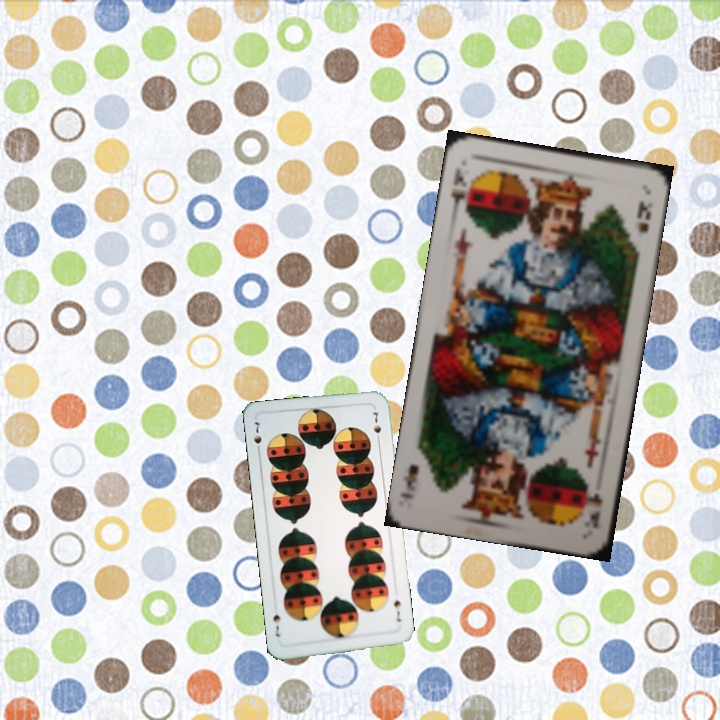S7: (250, 418, 264, 457), (390, 595, 405, 624)
SK: (447, 163, 474, 216), (584, 479, 605, 531)
